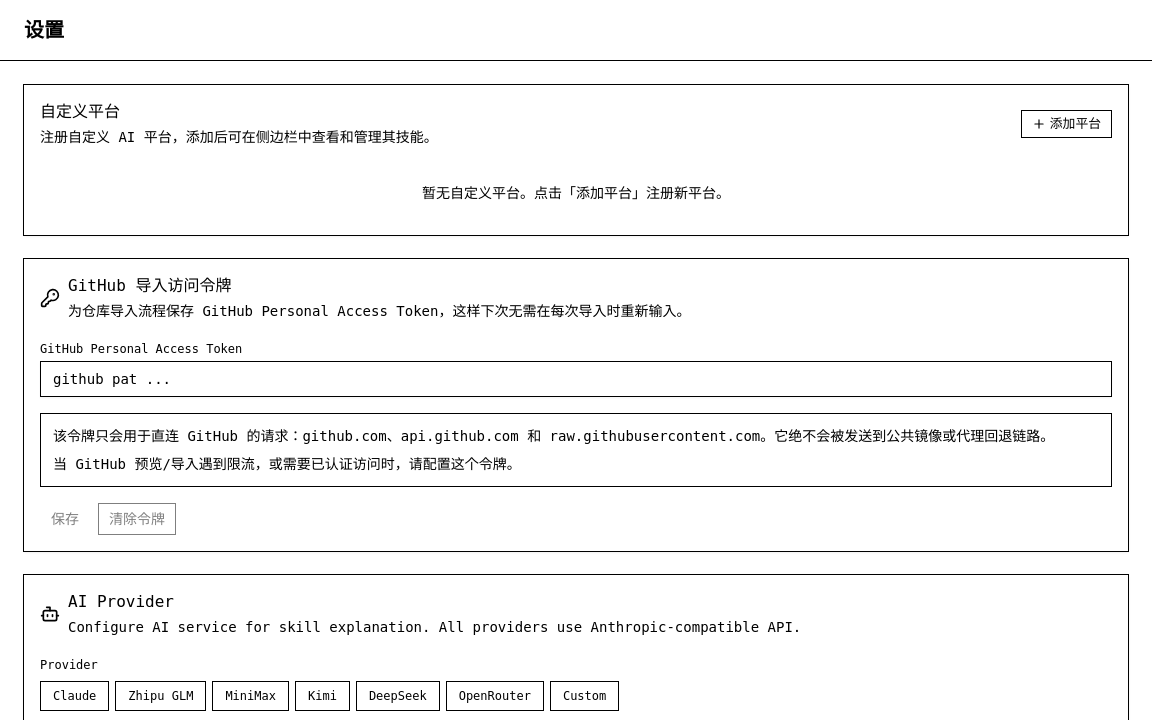
SettingsView › opens add platform dialog when button is clicked
The width and height of the screenshot is (1152, 720).
Click the button with aria-label "添加自定义平台" at (1066, 124), box [1021,110,1112,138]
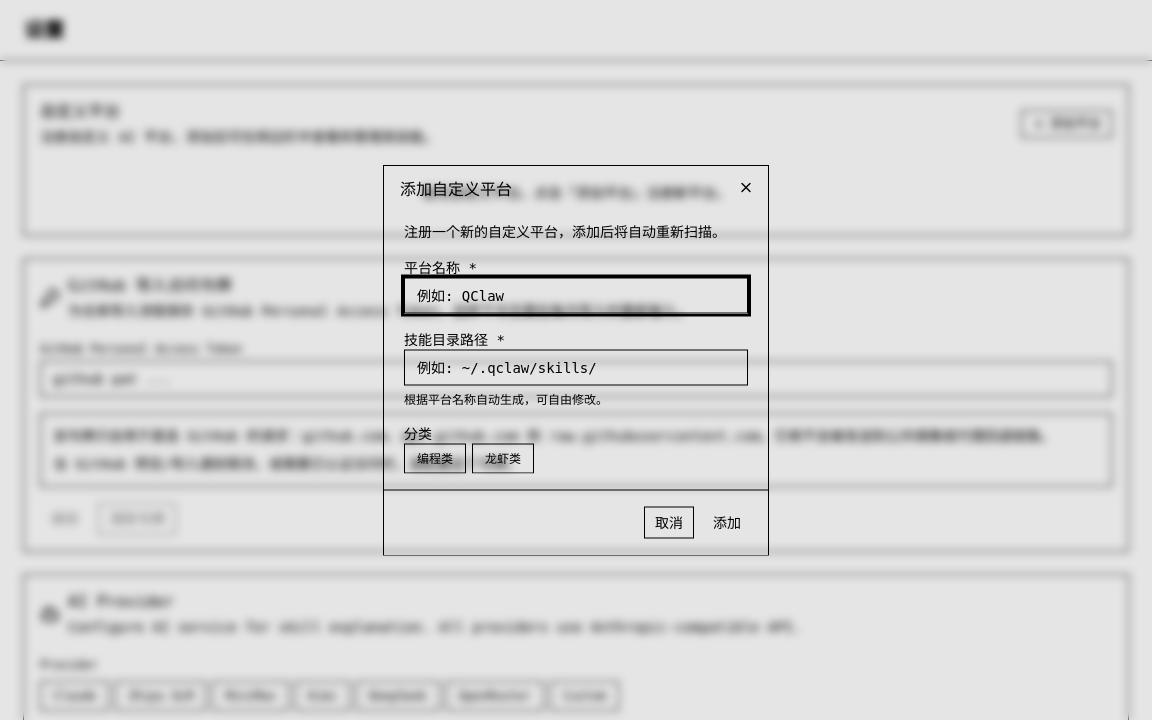
Expected: the heading "添加自定义平台" is shown, [400,180,512,198]
